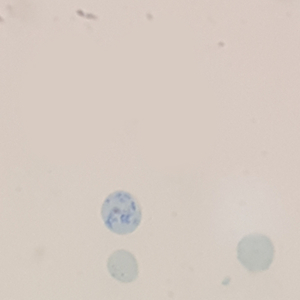aggregate reticulocyte: (99, 189, 144, 238)
erythrocyte: (235, 231, 276, 275)
punctate reticulocyte: (105, 248, 141, 285)
